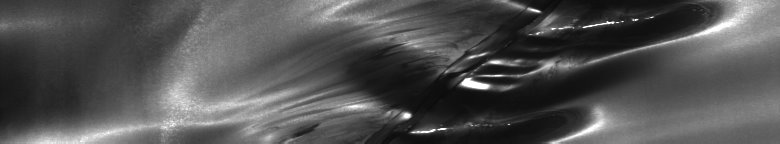ke: (148, 4, 728, 136)
